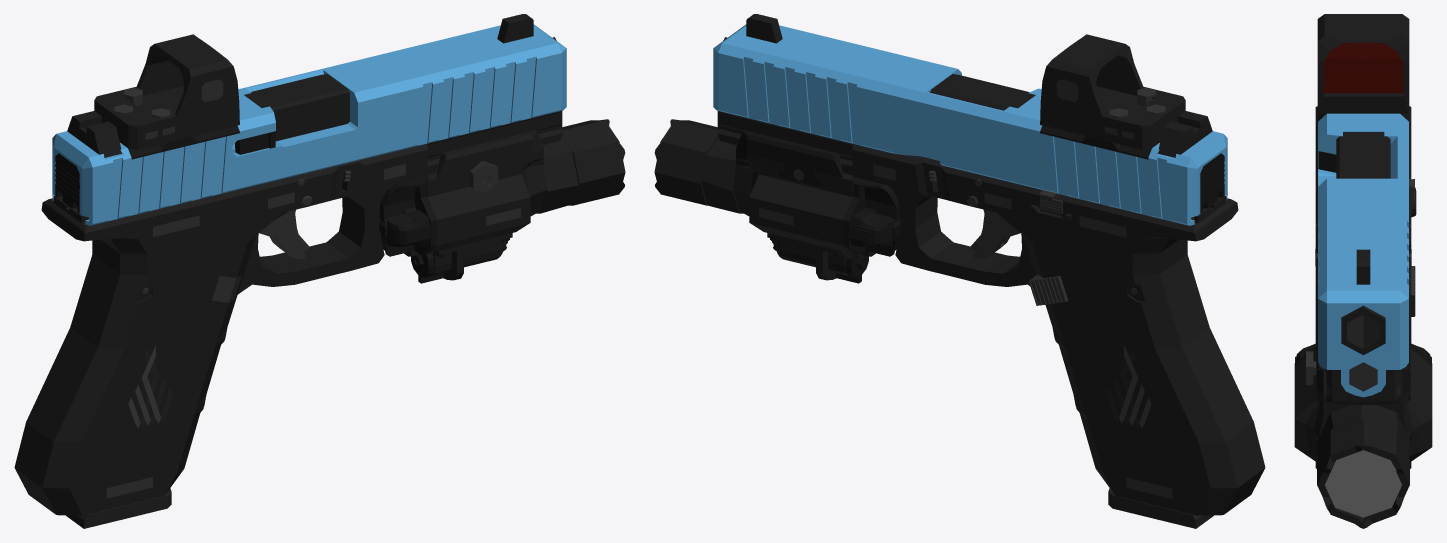
File: pistol_harberth-sensitisation.fbx
3 views of the same model, side by side, from view 1: azimuth 30°, elevation 25°; view 2: azimuth 150°, elevation 25°; view 3: azimuth 270°, elevation 25° (orthographic). The views are drawn at different scales.
Parts seen in each view (by area): view 1: Glock 21, slide, light, rmr, barrel, mag; view 2: Glock 21, slide, light, rmr, barrel, mag; view 3: slide, light, rmr, barrel, Glock 21.
Boxes of the visible parts, <box> form: Glock 21: <box>14,111,562,515</box>; slide: <box>52,14,566,225</box>; light: <box>379,119,625,283</box>; rmr: <box>94,34,239,149</box>; barrel: <box>244,37,556,141</box>; mag: <box>66,488,171,528</box>; Glock 21: <box>717,111,1265,515</box>; slide: <box>713,14,1227,225</box>; light: <box>654,119,900,283</box>; rmr: <box>1040,34,1185,149</box>; barrel: <box>723,37,1035,110</box>; mag: <box>1108,488,1213,528</box>; slide: <box>1318,113,1408,397</box>; light: <box>1294,321,1432,528</box>; rmr: <box>1317,14,1409,113</box>; barrel: <box>1336,132,1390,355</box>; Glock 21: <box>1315,106,1416,468</box>.
Bounding box in the file's own units: 169 × 120 × 31.14.
